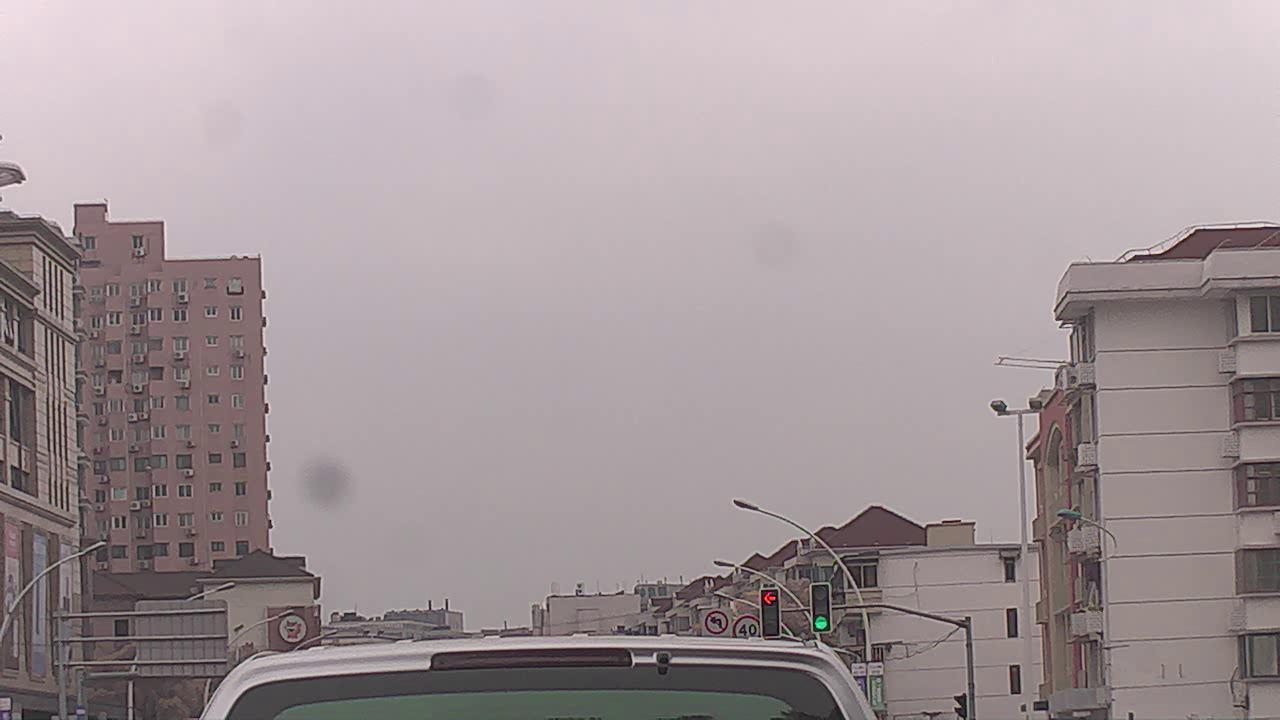traffic_light: (760, 585, 782, 640), (811, 582, 831, 635)
